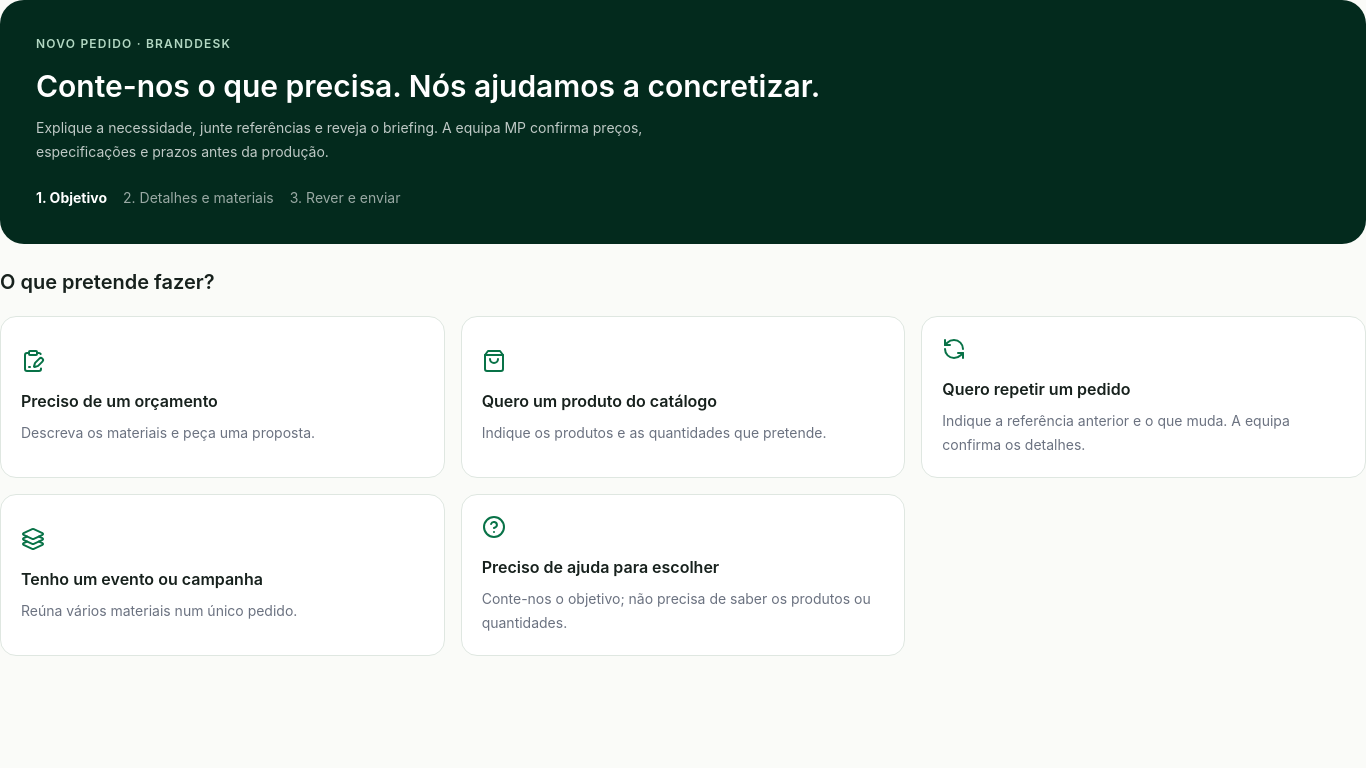
BrandDesk request wizard › keeps optional sections compact for clients who need guidance
Click the button "Preciso de ajuda" at [683, 575], box [461,494,905,656]
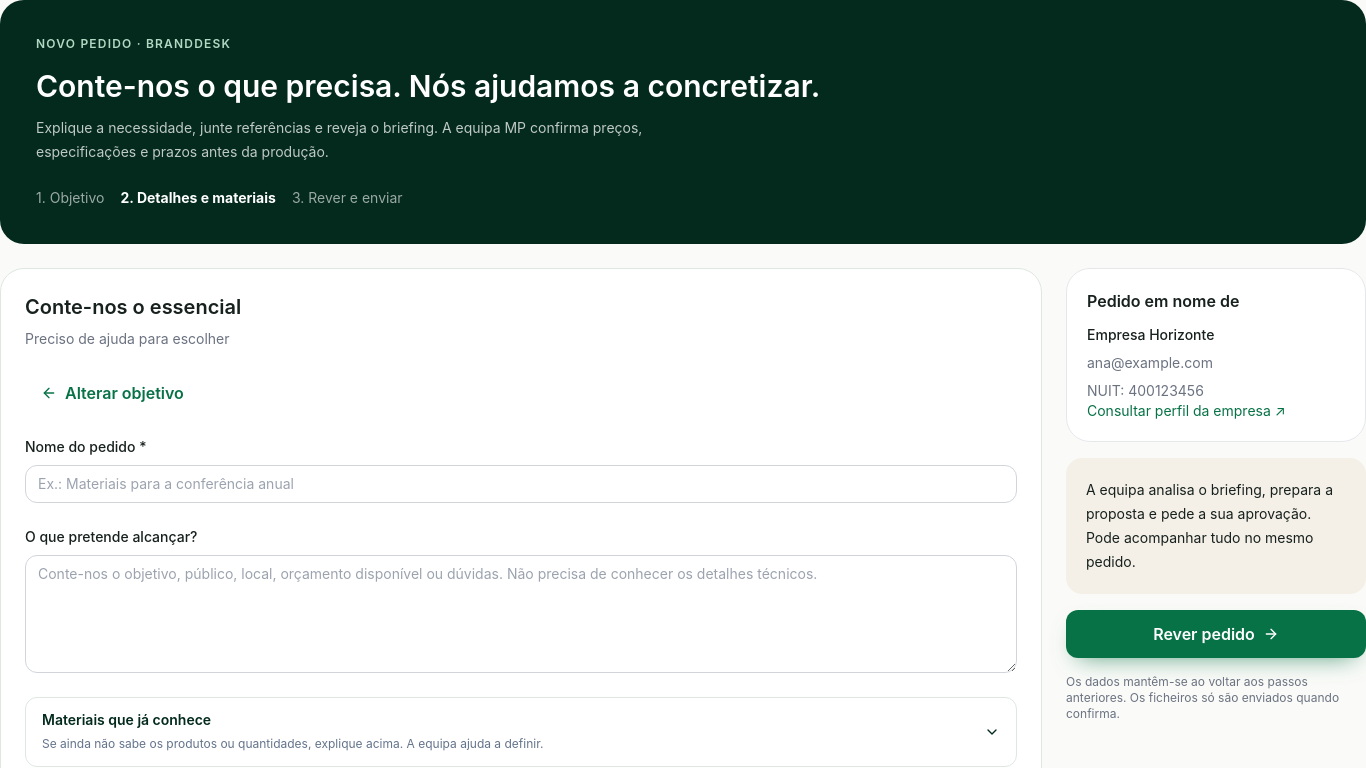
Check: the button "Adicionar material" is not shown
Check: the text "Empresa Horizonte" is shown, box [1087,326,1214,343]
Click the heading "Materiais que já conhece" at [127, 720], box [42,711,1000,751]
(page scrolled)
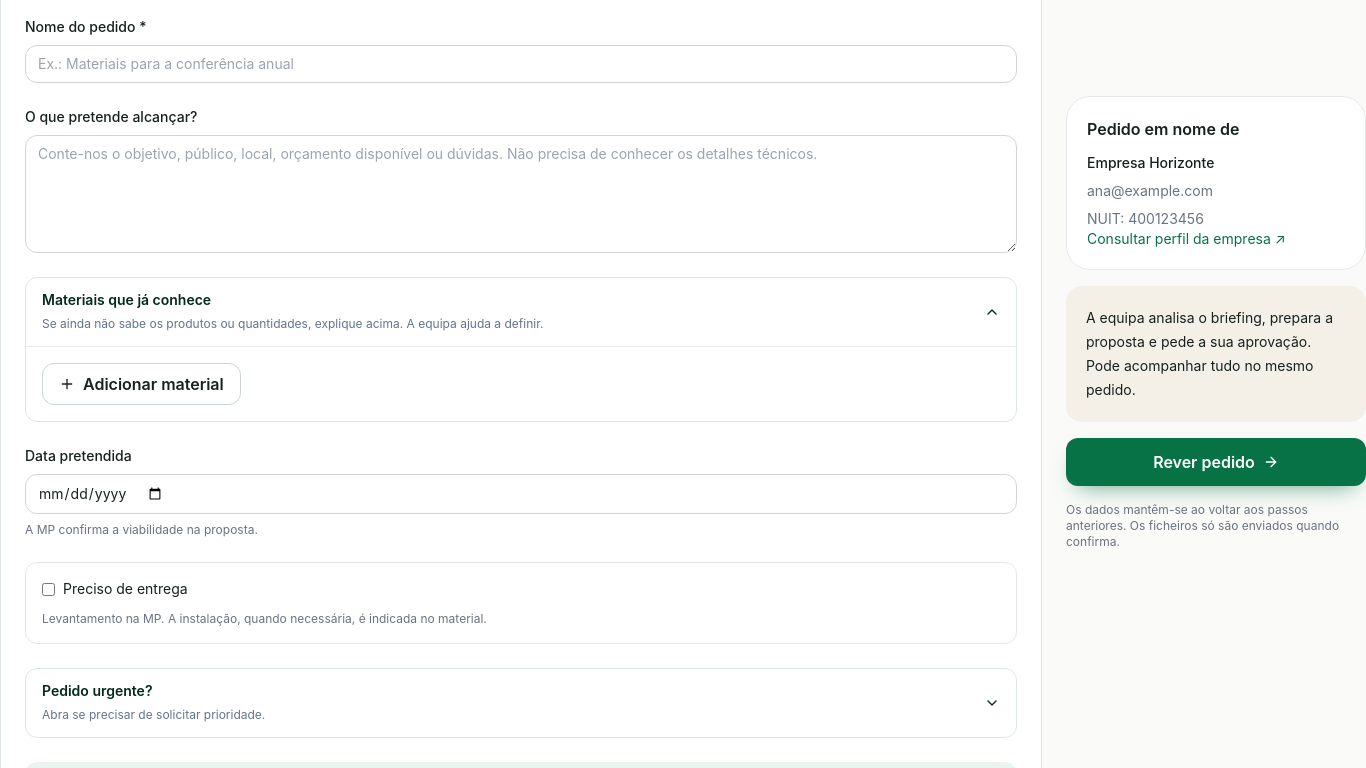
Check: the button "Adicionar material" is shown, box [42,363,241,405]
